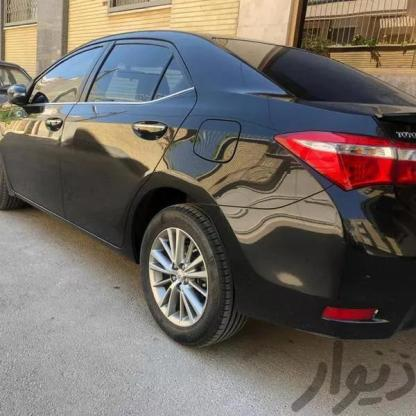Car: (0, 30, 416, 359)
